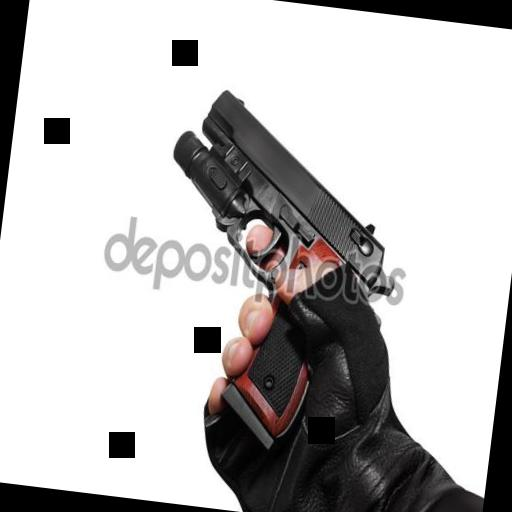Handgun: (139, 60, 408, 456)
